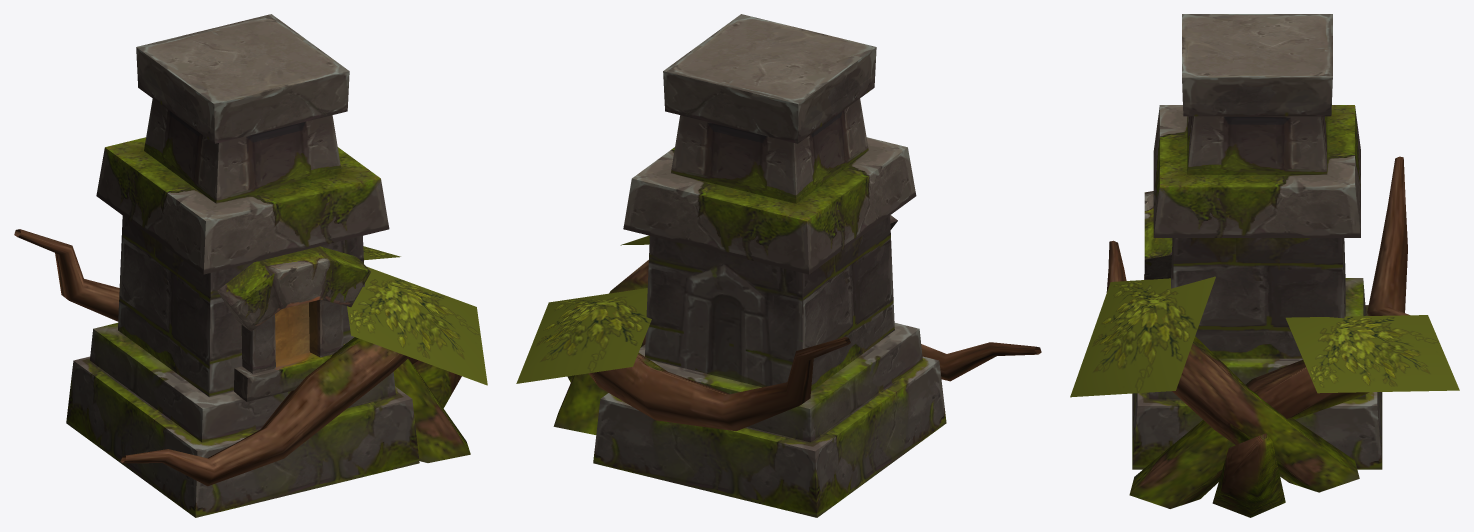
File: common_yewai_zhuzi01.FBX
The picture shows the model from 3 angles, left to right: view 1: azimuth 30°, elevation 25°; view 2: azimuth 150°, elevation 25°; view 3: azimuth 270°, elevation 25°; orthographic projection. The views are drawn at different scales.
Parts seen in each view (by area): view 1: common_yewai_zhuzi01; view 2: common_yewai_zhuzi01; view 3: common_yewai_zhuzi01.
Part boxes in pixels (<box>): common_yewai_zhuzi01: <box>14,14,487,517</box>; common_yewai_zhuzi01: <box>516,14,1041,517</box>; common_yewai_zhuzi01: <box>1070,14,1459,517</box>.
Bounding box in the file's own units: 4.81 × 4.11 × 4.46.
